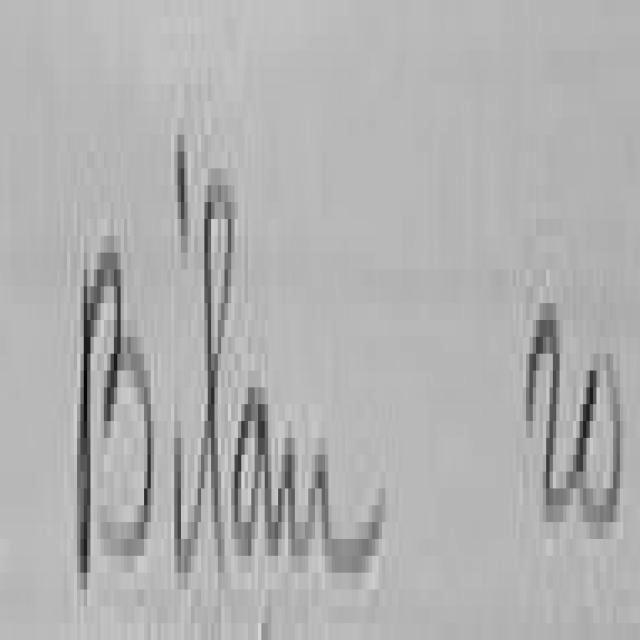0: (578, 339, 621, 532)
2: (529, 303, 578, 541)
B: (77, 253, 154, 589)
a: (235, 387, 275, 561)
i: (174, 438, 184, 573), (178, 135, 188, 253)
l: (184, 185, 235, 573)
n: (281, 438, 385, 573)
